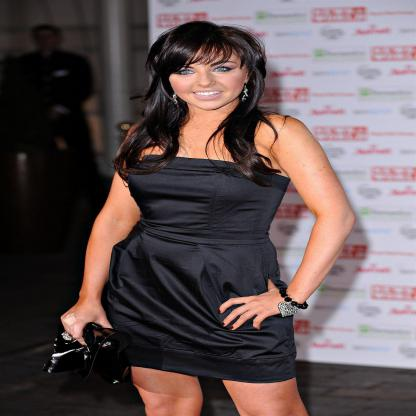long-hair: (122, 108, 291, 134)
